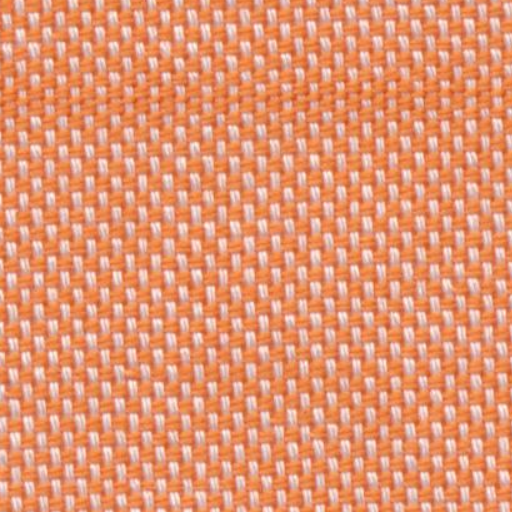TuoSha: (9, 51, 492, 143)
